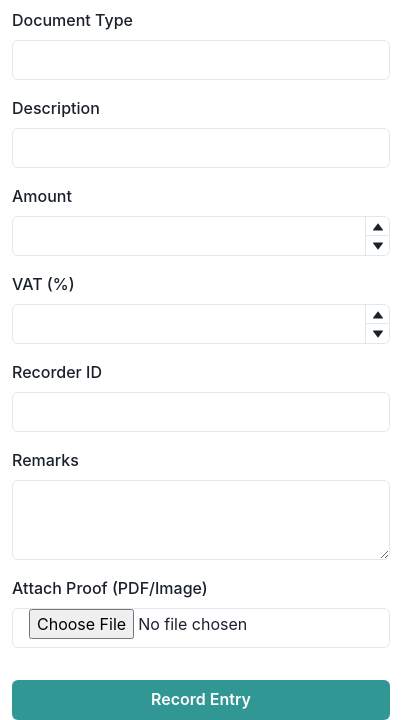
Test: AccountingEntryForm › shows validation errors for required fields on submit
(page scrolled)
Click the button "Record Entry". click: x=201, y=700
box: 12,680 -> 390,719
(page scrolled)
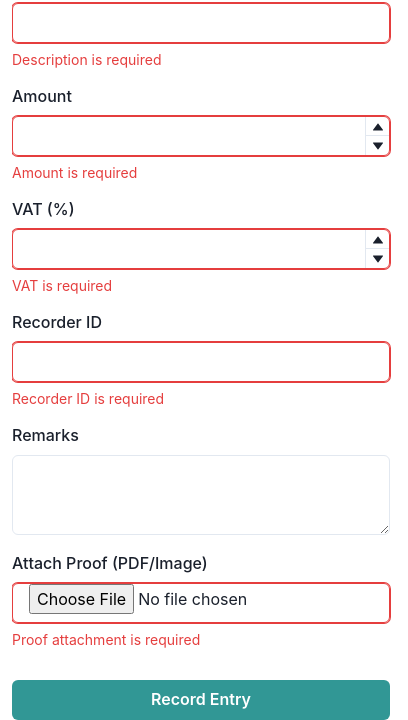
Check: the text "Description is required" is shown, box 12,51 -> 162,68
Check: the text "Amount is required" is shown, box 12,164 -> 137,181
Check: the text "VAT is required" is shown, box 12,277 -> 112,294
